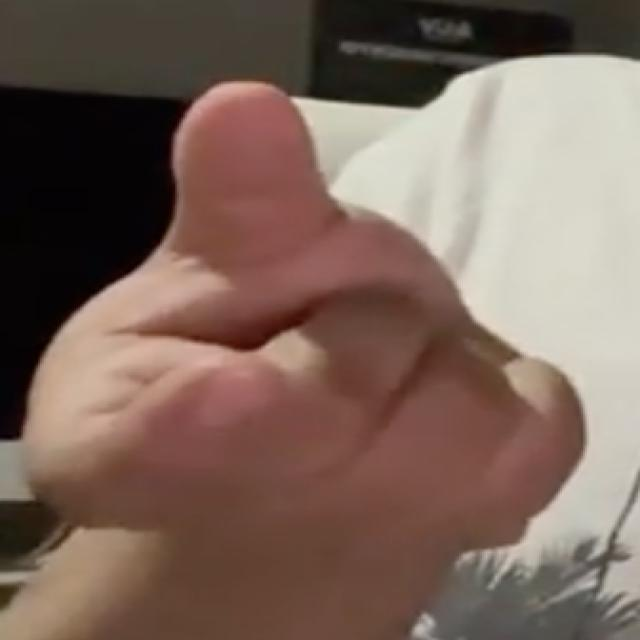Q: (17, 64, 591, 581)
